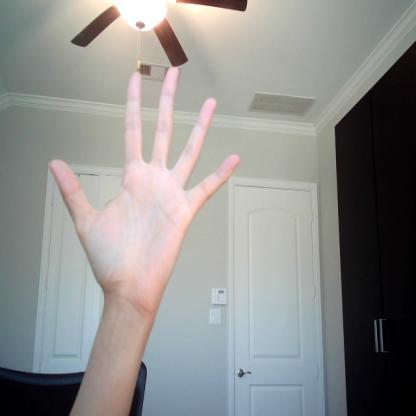five: (51, 60, 241, 301)
